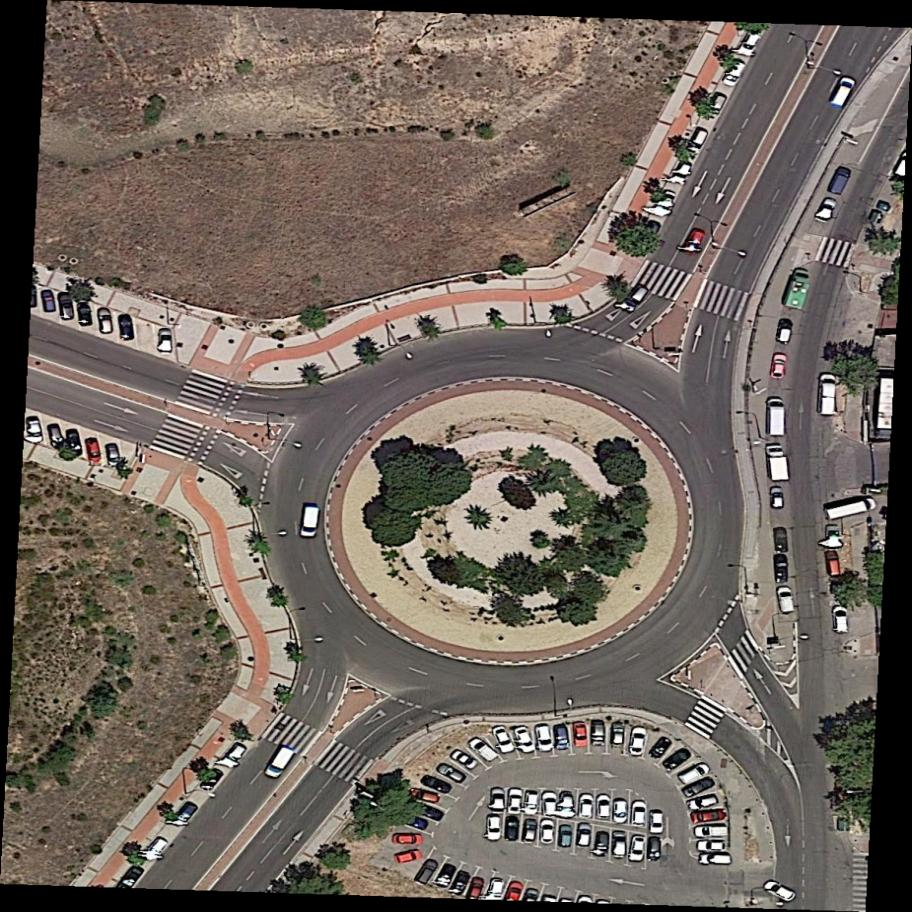large-vehicle: (824, 497, 879, 523), (818, 373, 837, 416), (767, 445, 788, 483), (768, 400, 786, 436)
small-vehicle: (784, 268, 813, 314), (263, 744, 295, 783), (760, 876, 798, 907), (828, 75, 858, 113), (141, 830, 173, 864), (467, 735, 500, 767), (660, 745, 694, 774), (419, 772, 455, 798), (449, 746, 481, 774), (827, 164, 853, 198), (677, 761, 712, 786), (680, 776, 715, 800), (491, 723, 516, 756), (118, 865, 145, 894), (438, 760, 468, 786), (681, 227, 706, 258), (416, 856, 441, 887), (512, 723, 536, 755), (198, 766, 224, 795), (737, 32, 762, 62), (653, 185, 678, 215), (447, 869, 472, 899), (626, 725, 648, 758), (814, 196, 838, 226), (722, 60, 746, 90), (433, 862, 457, 892), (704, 93, 728, 121), (685, 794, 721, 812), (649, 735, 673, 761), (691, 808, 727, 824), (302, 506, 320, 538), (176, 802, 200, 826), (629, 797, 648, 827), (466, 875, 486, 903), (416, 804, 445, 823), (824, 550, 842, 580), (538, 819, 556, 847), (689, 129, 709, 154), (487, 877, 507, 902), (411, 787, 440, 804), (536, 724, 554, 751), (627, 284, 648, 307), (611, 830, 628, 858), (46, 423, 64, 449), (489, 788, 507, 814), (824, 522, 842, 548), (831, 607, 848, 634), (578, 792, 595, 819), (508, 787, 524, 815), (777, 588, 794, 614), (66, 431, 83, 457), (392, 849, 421, 864), (575, 824, 593, 848), (630, 835, 646, 862), (646, 834, 662, 861), (770, 355, 787, 380), (105, 443, 122, 468), (504, 816, 521, 841), (523, 819, 540, 844), (559, 792, 576, 817), (486, 814, 501, 842), (674, 162, 693, 184), (77, 302, 93, 328), (86, 437, 102, 463), (541, 791, 557, 816), (590, 721, 606, 746), (571, 722, 587, 747), (555, 725, 571, 750), (773, 556, 788, 582), (59, 295, 74, 321), (597, 794, 612, 820), (610, 722, 625, 748), (405, 816, 431, 831), (98, 310, 113, 335), (558, 824, 573, 849), (614, 798, 629, 823), (776, 323, 792, 346), (28, 420, 44, 443), (120, 316, 134, 342), (696, 826, 729, 837), (697, 839, 727, 851), (228, 743, 246, 763), (594, 829, 609, 853), (649, 810, 664, 833), (41, 290, 56, 313), (775, 528, 788, 553), (159, 330, 172, 355), (526, 790, 539, 815), (392, 834, 424, 844), (701, 854, 732, 864), (772, 487, 785, 509)
